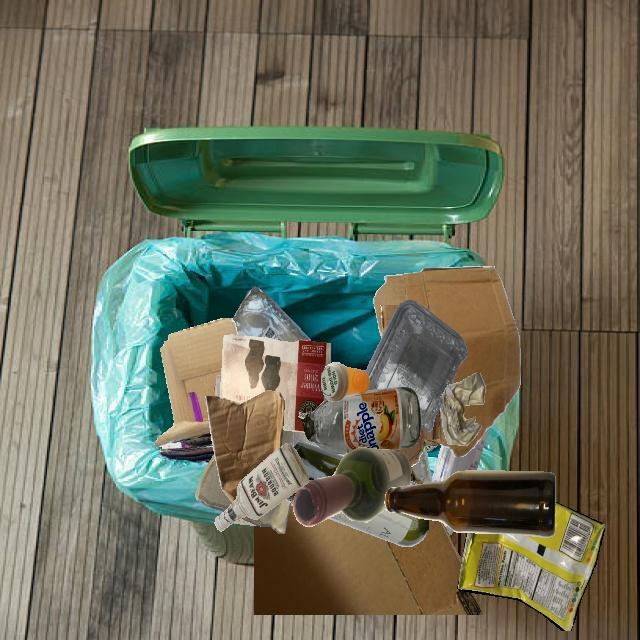cardboard: (373, 266, 521, 457), (254, 504, 483, 615), (154, 318, 238, 462), (205, 390, 285, 503), (399, 305, 437, 423), (216, 445, 287, 500), (196, 468, 232, 511)
glass: (384, 470, 555, 538), (293, 447, 412, 527), (214, 443, 309, 531), (293, 457, 417, 522), (303, 387, 421, 454)
paper: (220, 334, 331, 432), (221, 375, 283, 526), (283, 442, 347, 502), (441, 372, 486, 445)
plastic: (366, 300, 467, 432), (232, 287, 311, 342), (431, 428, 489, 483), (321, 362, 370, 402), (411, 449, 431, 484)
trash: (457, 502, 606, 631)
